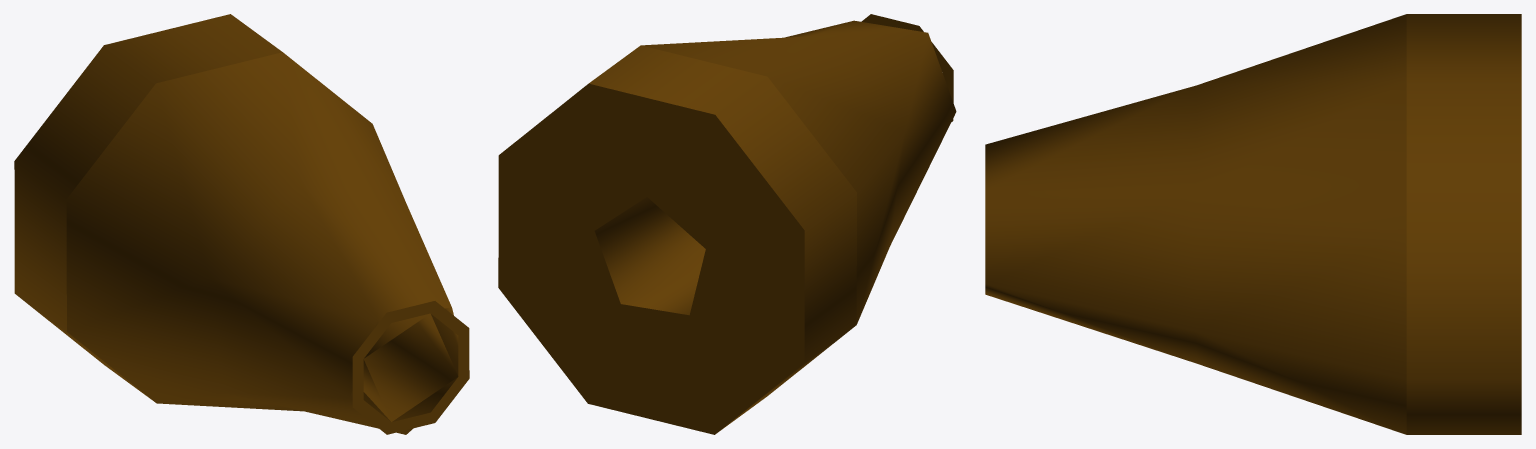
Rendered from Cone limacon.obj.
3 renders of one model, left to right at view 1: azimuth 30°, elevation 25°; view 2: azimuth 150°, elevation 25°; view 3: azimuth 270°, elevation 25°, orthographic. The views are drawn at different scales.
Parts seen in each view (by area): view 1: Face_3, Face_2, Face_5, Face_4; view 2: Face_1, Face_3, Face_2, Face_5, Face_4; view 3: Face_3, Face_2.
Part boxes in pixels (x1,y1,x2,y2): Face_3: (66, 52, 458, 434); Face_2: (14, 14, 282, 401); Face_5: (363, 313, 458, 421); Face_4: (352, 301, 469, 434); Face_1: (498, 83, 804, 434); Face_3: (641, 20, 956, 324); Face_2: (589, 45, 856, 432); Face_5: (594, 197, 705, 315); Face_4: (861, 14, 953, 121); Face_3: (985, 14, 1406, 434); Face_2: (1406, 14, 1521, 434).
Bounding box in the file's own units: 0.0102 × 0.0102 × 0.014.
